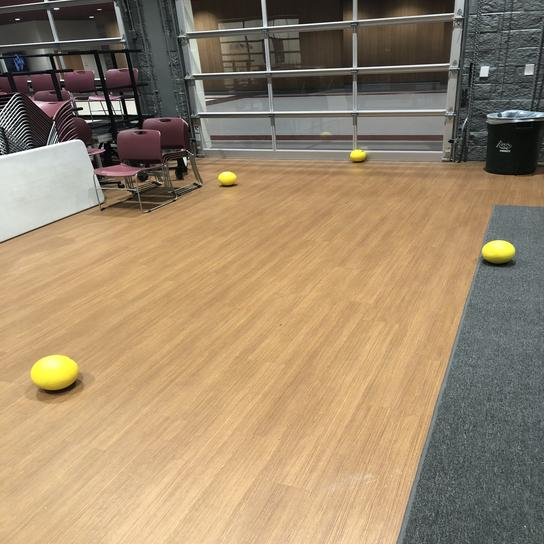ball: (27, 352, 82, 394), (478, 236, 516, 265), (217, 170, 238, 187), (348, 147, 367, 164)
